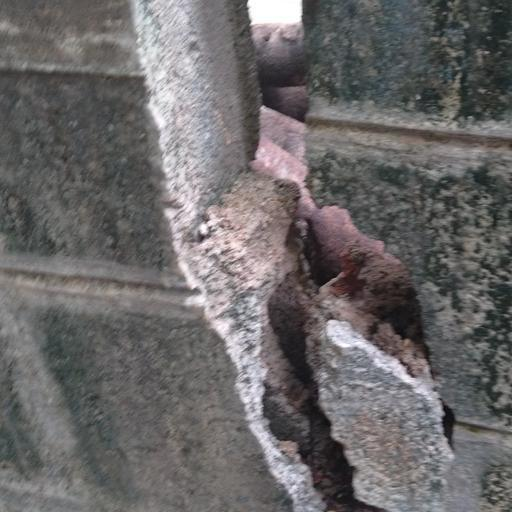major_crack: (129, 0, 461, 512)
